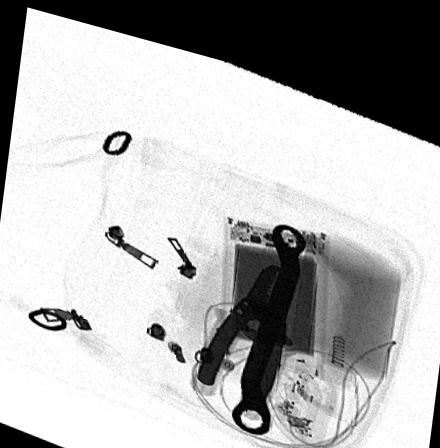Pliers: (194, 247, 295, 392)
Powerbank: (217, 201, 325, 360)
Wrench: (231, 207, 306, 421)
